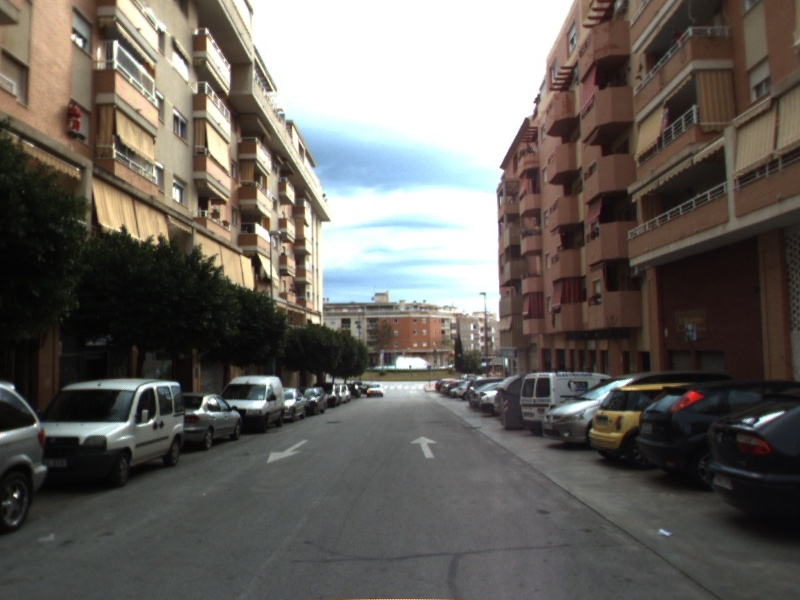STRAIGHT: (408, 434, 440, 460)
